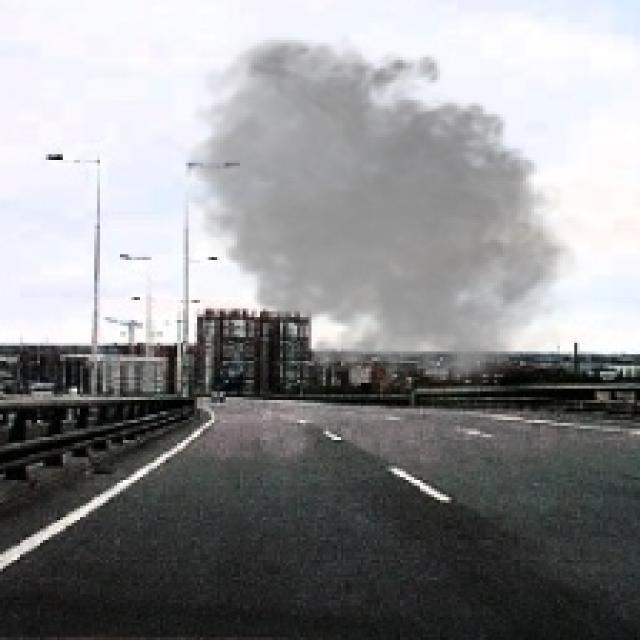Smoke: (177, 32, 592, 394)
